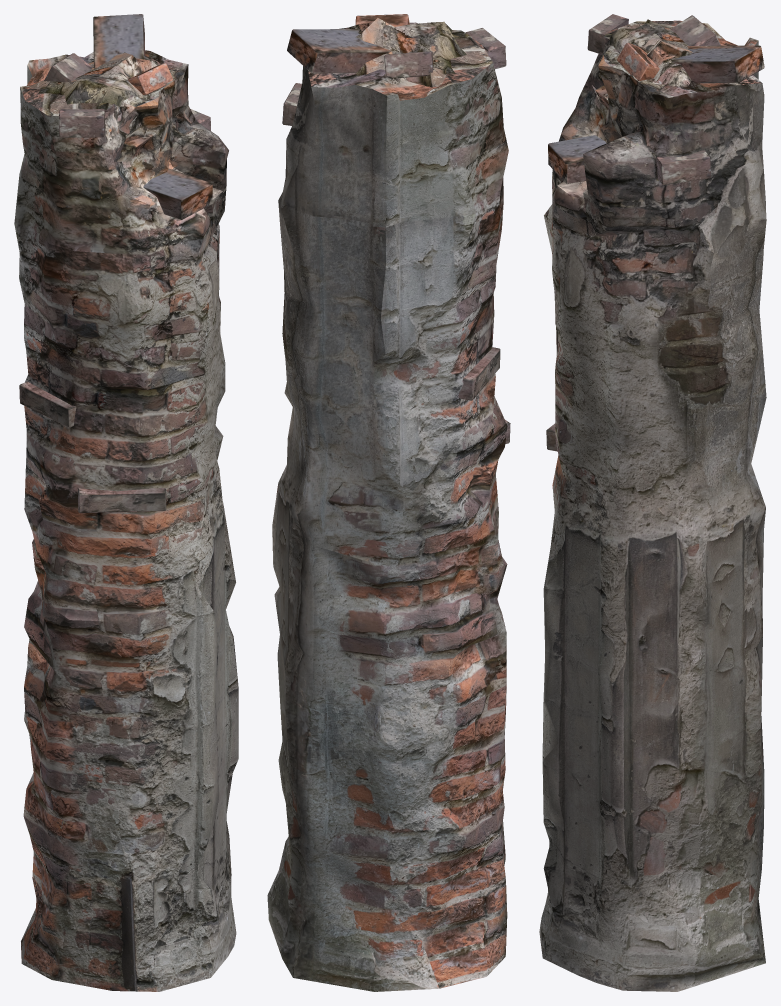
The model's file is sm_ChapelColumn_01_04.fbx.
3 renders of one model, left to right at view 1: azimuth 30°, elevation 25°; view 2: azimuth 150°, elevation 25°; view 3: azimuth 270°, elevation 25°, orthographic. The views are drawn at different scales.
Visible parts, largest first — view 1: sm_ChapelColumn_01_04_LOD0; view 2: sm_ChapelColumn_01_04_LOD0; view 3: sm_ChapelColumn_01_04_LOD0.
Boxes of the visible parts, bbox=[...] form: sm_ChapelColumn_01_04_LOD0: bbox=[14, 14, 238, 991]; sm_ChapelColumn_01_04_LOD0: bbox=[267, 14, 510, 991]; sm_ChapelColumn_01_04_LOD0: bbox=[539, 14, 766, 991].
Size of the model in its own units: 77.32 by 76 by 336.
